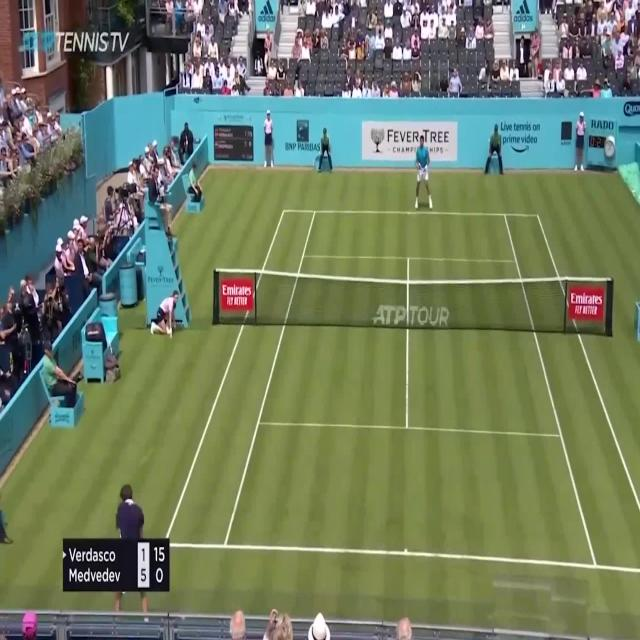bottom-dead-zone: (225, 423, 597, 568)
court: (161, 209, 640, 571)
left-doubles-alley: (164, 209, 315, 547)
left-service-box: (257, 255, 409, 427)
net: (212, 268, 614, 336)
right-doubles-alley: (504, 213, 640, 571)
right-service-box: (405, 256, 563, 437)
top-dead-zone: (303, 211, 516, 260)
